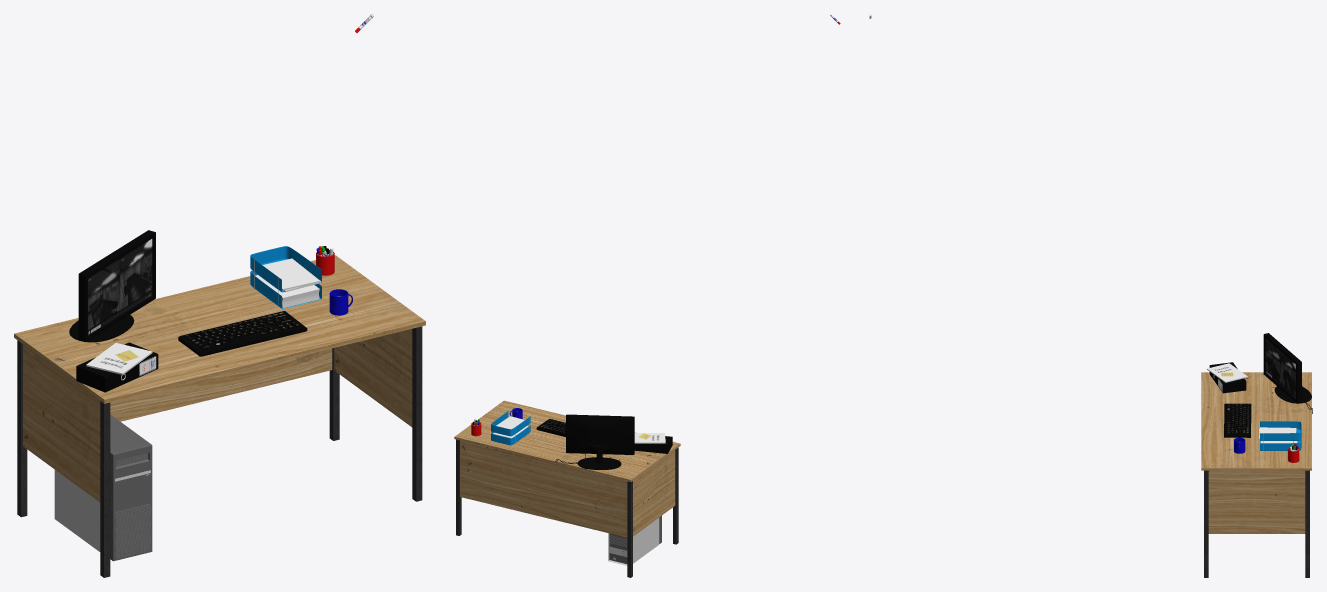
The model's file is desk.glb.
3 renders of one model, left to right at view 1: azimuth 30°, elevation 25°; view 2: azimuth 150°, elevation 25°; view 3: azimuth 270°, elevation 25°, orthographic. The views are drawn at different scales.
Parts seen in each view (by area): view 1: Desk.Shape, PC.Shape, Monitor.Shape, Paper Tray.Shape, Keyboard.Shape, Pile of Paperwork 1.Shape, Mug.Shape; view 2: Desk.Shape, Monitor.Shape, PC.Shape, Paper Tray.Shape, Pile of Paperwork 1.Shape; view 3: Desk.Shape, Monitor.Shape, Paper Tray.Shape, Keyboard.Shape, Pile of Paperwork 1.Shape.
Part boxes in pixels (x1,y1,x2,y2): Desk.Shape: (14,255,425,577); PC.Shape: (54,414,152,561); Monitor.Shape: (69,230,155,342); Paper Tray.Shape: (250,246,321,308); Keyboard.Shape: (178,311,307,356); Pile of Paperwork 1.Shape: (76,342,158,392); Mug.Shape: (329,289,352,315); Desk.Shape: (454,400,680,577); Monitor.Shape: (555,414,634,469); PC.Shape: (608,515,661,565); Paper Tray.Shape: (491,411,530,445); Pile of Paperwork 1.Shape: (634,433,672,453); Desk.Shape: (1201,372,1311,577); Monitor.Shape: (1263,333,1312,413); Paper Tray.Shape: (1259,421,1301,451); Keyboard.Shape: (1224,403,1251,437); Pile of Paperwork 1.Shape: (1207,362,1247,393).
Bounding box in the file's own units: 1.56 × 3.33 × 2.87.
Materials: 20 (9 with a texture image).
